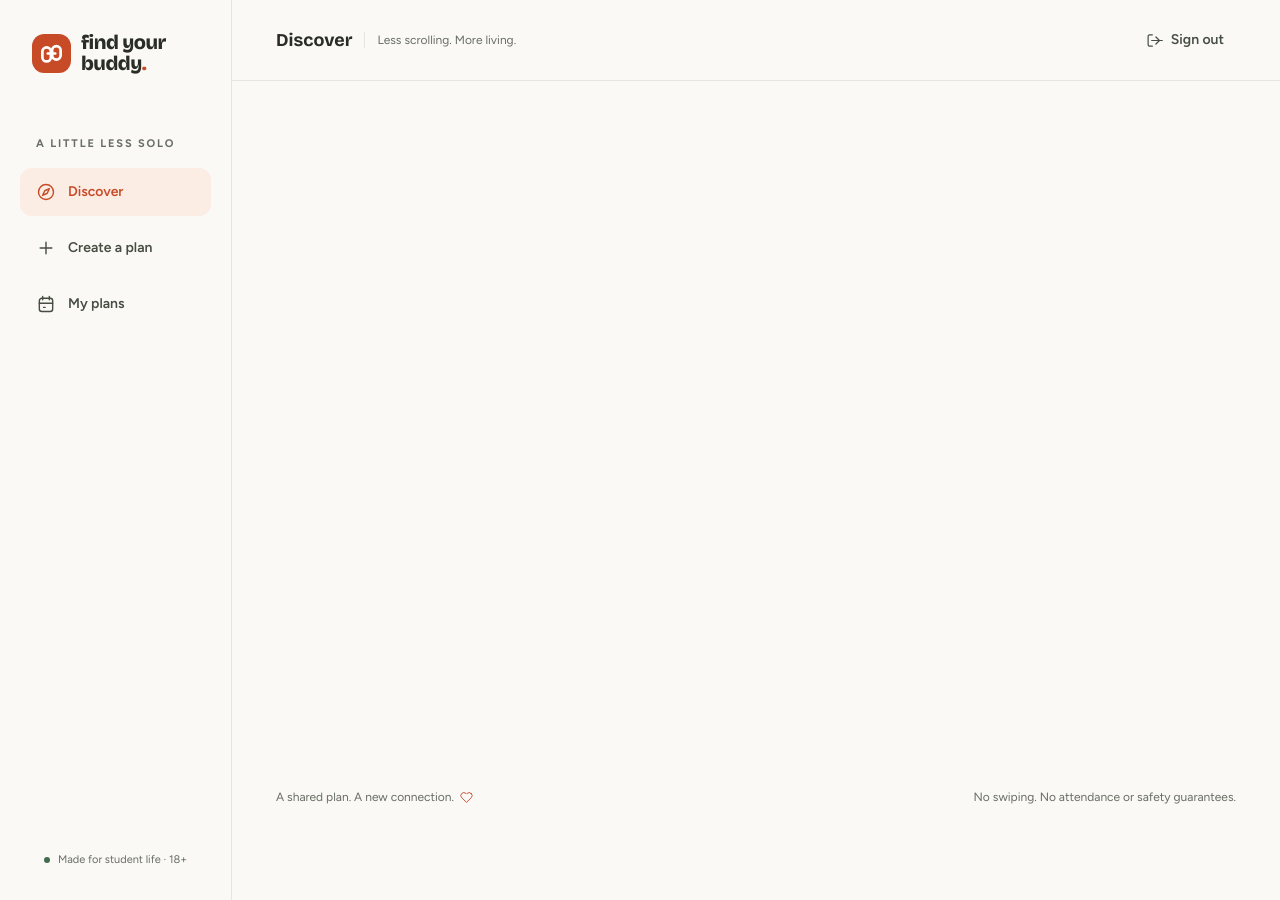
Scenario: demo account labelling › makes sign-out failures actionable rather than pretending the account is signed out
This screenshot has width=1280, height=900.
Click the button "Sign out".
click(1185, 40)  # box [1134, 18, 1236, 62]
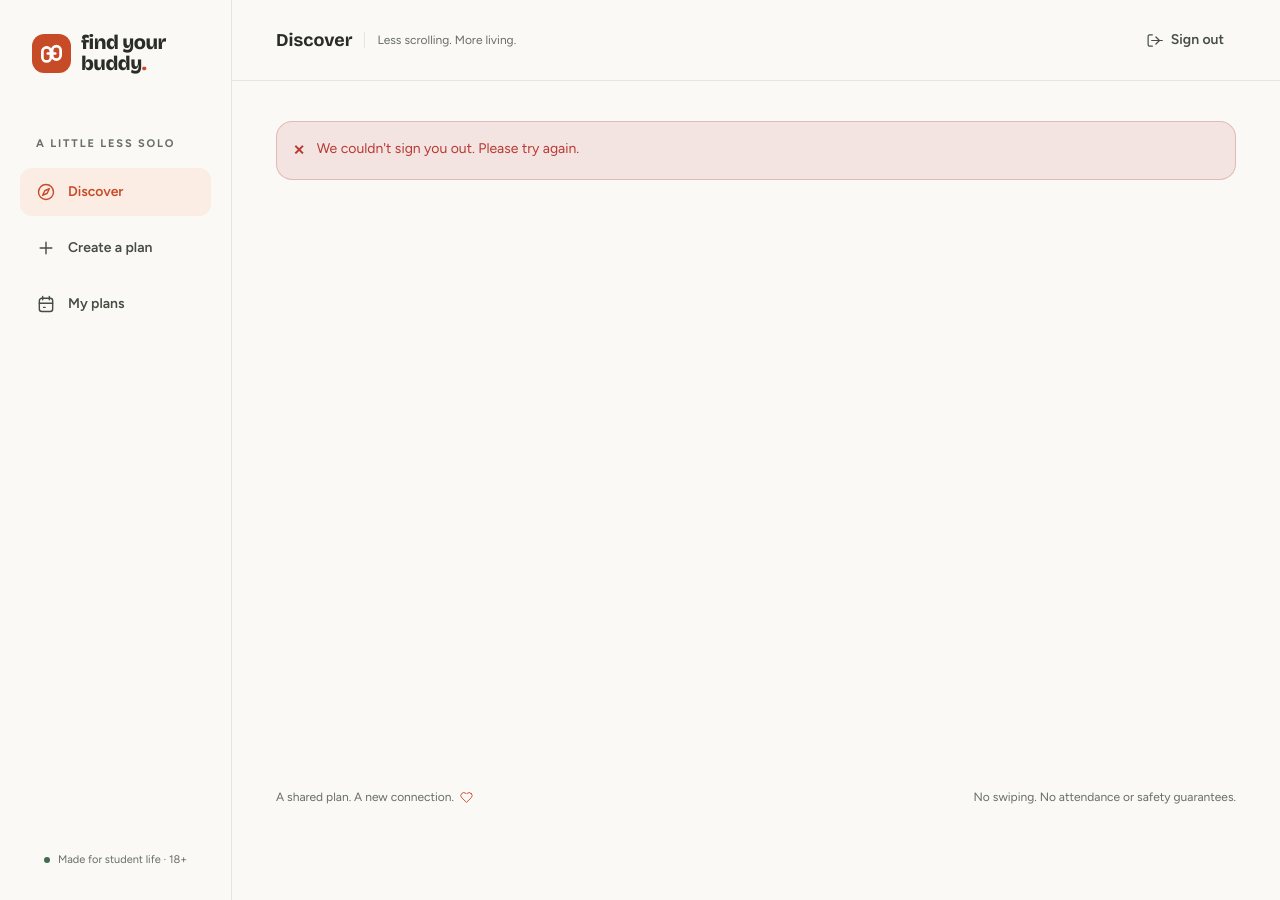
Check: the message shows "We couldn't sign you out. Please try again.", box [317, 140, 579, 157]
